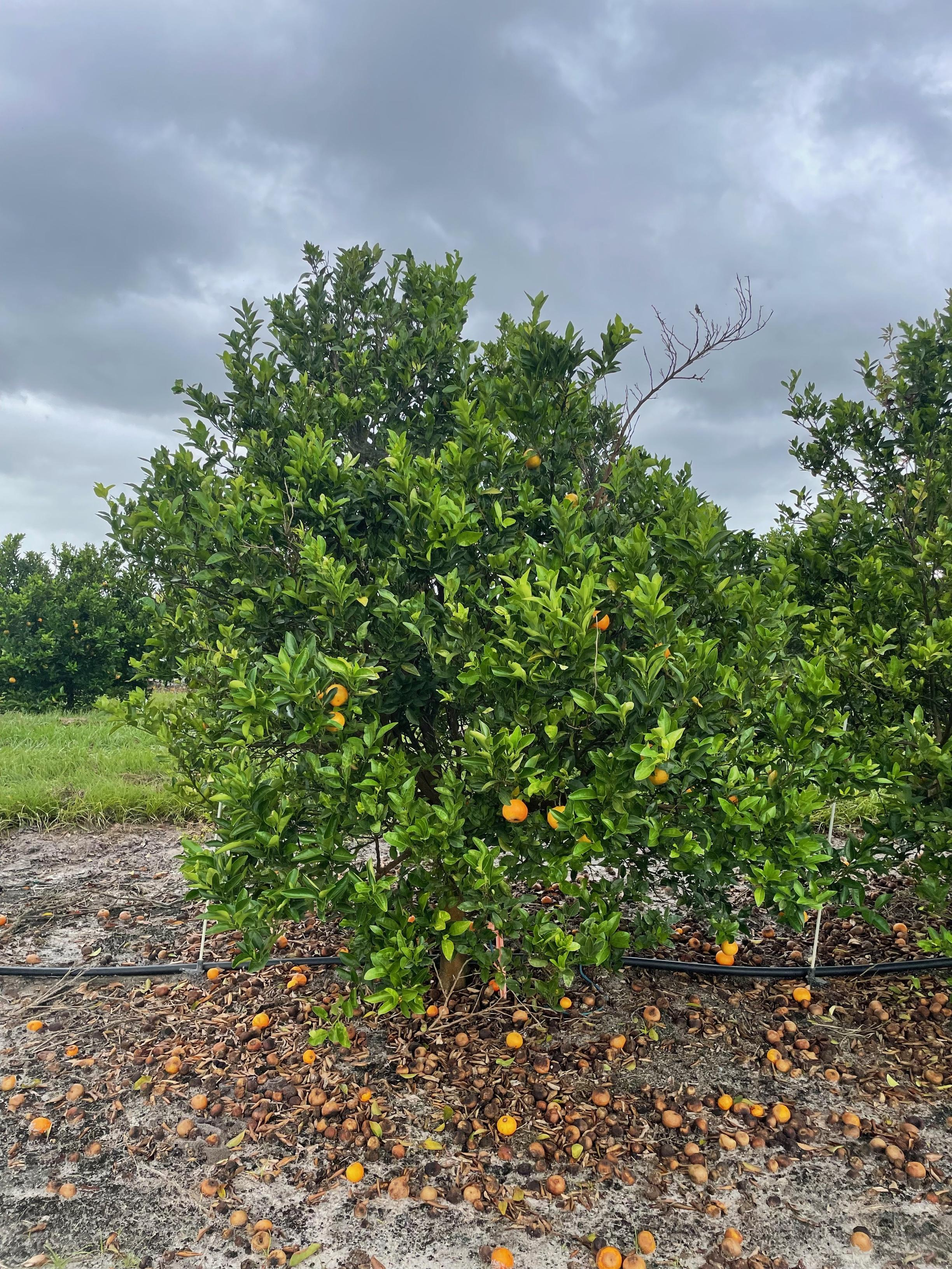fruit_on_ground: (544, 801, 577, 832), (499, 795, 529, 825), (572, 825, 601, 853), (324, 682, 350, 708), (650, 641, 677, 666), (585, 608, 611, 633), (645, 765, 670, 788), (322, 711, 346, 734), (521, 447, 543, 470), (722, 787, 744, 808), (562, 492, 583, 510), (8, 676, 16, 684), (73, 623, 79, 629), (71, 619, 77, 625), (37, 617, 43, 623)
fruit_on_tree: (719, 1231, 746, 1256), (595, 1244, 622, 1268), (849, 1229, 874, 1253), (620, 1249, 649, 1269), (490, 1245, 515, 1268), (543, 1172, 567, 1195), (685, 1164, 711, 1185), (903, 1159, 928, 1180), (388, 1178, 411, 1200), (495, 1114, 518, 1136), (636, 1229, 656, 1253), (29, 1114, 53, 1134), (589, 1086, 611, 1107), (345, 1160, 365, 1183), (175, 1116, 196, 1137), (770, 1102, 791, 1123), (720, 936, 743, 955), (462, 1184, 483, 1204), (306, 1086, 327, 1106), (198, 1176, 219, 1196), (885, 1144, 906, 1164), (641, 1003, 662, 1023), (504, 1029, 525, 1049), (662, 1109, 683, 1129), (532, 1052, 552, 1072), (250, 1010, 271, 1029), (791, 985, 812, 1004), (266, 1249, 288, 1267), (419, 1183, 439, 1202), (682, 1139, 702, 1158), (714, 949, 735, 967), (286, 972, 308, 989), (931, 989, 950, 1008), (495, 1143, 514, 1162), (65, 1104, 85, 1122), (7, 1093, 27, 1111), (58, 1181, 78, 1199), (188, 1092, 208, 1110), (716, 1092, 734, 1112), (1, 1071, 18, 1092), (509, 1007, 530, 1024), (443, 1184, 462, 1202), (467, 1116, 486, 1134), (83, 1140, 102, 1158), (842, 1111, 861, 1129), (764, 1027, 784, 1044), (163, 1056, 183, 1073), (65, 1082, 85, 1099), (301, 1046, 318, 1066), (890, 919, 910, 936), (210, 1040, 231, 1056), (229, 1208, 247, 1226), (619, 1168, 637, 1186), (356, 1084, 374, 1102), (527, 1139, 545, 1157), (424, 1159, 443, 1176), (870, 1002, 889, 1019), (560, 1123, 579, 1140), (842, 1121, 861, 1138), (24, 949, 43, 966), (719, 1133, 737, 1150), (454, 1030, 472, 1047), (692, 1116, 710, 1133), (608, 1033, 626, 1050), (868, 1134, 887, 1150), (243, 1035, 262, 1051), (822, 1066, 841, 1082), (775, 1056, 794, 1072), (25, 1017, 45, 1032), (484, 976, 501, 993), (390, 1141, 407, 1158), (748, 1101, 765, 1118), (341, 1116, 359, 1132), (322, 1124, 340, 1140), (867, 997, 885, 1013), (781, 1017, 799, 1033), (205, 965, 223, 981), (321, 1100, 340, 1115), (771, 997, 791, 1011), (733, 1131, 750, 1147), (766, 1047, 783, 1063), (207, 1101, 224, 1117), (556, 994, 573, 1010), (810, 1000, 828, 1015), (793, 1036, 811, 1051), (254, 1217, 273, 1231), (922, 1148, 941, 1162), (652, 1096, 668, 1112), (849, 1157, 865, 1173), (750, 1134, 766, 1150), (579, 1133, 594, 1150), (765, 1155, 780, 1172), (664, 1156, 681, 1171), (580, 992, 597, 1007), (564, 1108, 582, 1122), (395, 1062, 411, 1077), (545, 1110, 561, 1125), (63, 1042, 79, 1057), (274, 932, 289, 948), (154, 982, 171, 996), (727, 993, 742, 1008), (532, 1157, 547, 1172), (424, 1003, 439, 1018), (686, 935, 702, 949), (761, 923, 776, 937), (269, 1087, 284, 1101), (404, 911, 418, 926), (701, 1093, 716, 1107), (266, 1051, 280, 1066), (775, 906, 789, 920), (156, 947, 170, 961), (683, 1082, 698, 1095), (876, 1008, 891, 1021), (826, 1111, 841, 1124), (656, 995, 671, 1008), (151, 1043, 166, 1056), (687, 993, 702, 1006), (576, 1057, 591, 1070), (686, 1011, 701, 1024), (118, 908, 133, 921), (539, 894, 554, 906), (630, 981, 644, 993), (535, 1098, 549, 1110), (96, 907, 110, 919), (635, 1033, 648, 1045), (319, 945, 332, 957), (587, 1044, 599, 1057), (750, 953, 763, 965), (0, 911, 10, 926)
